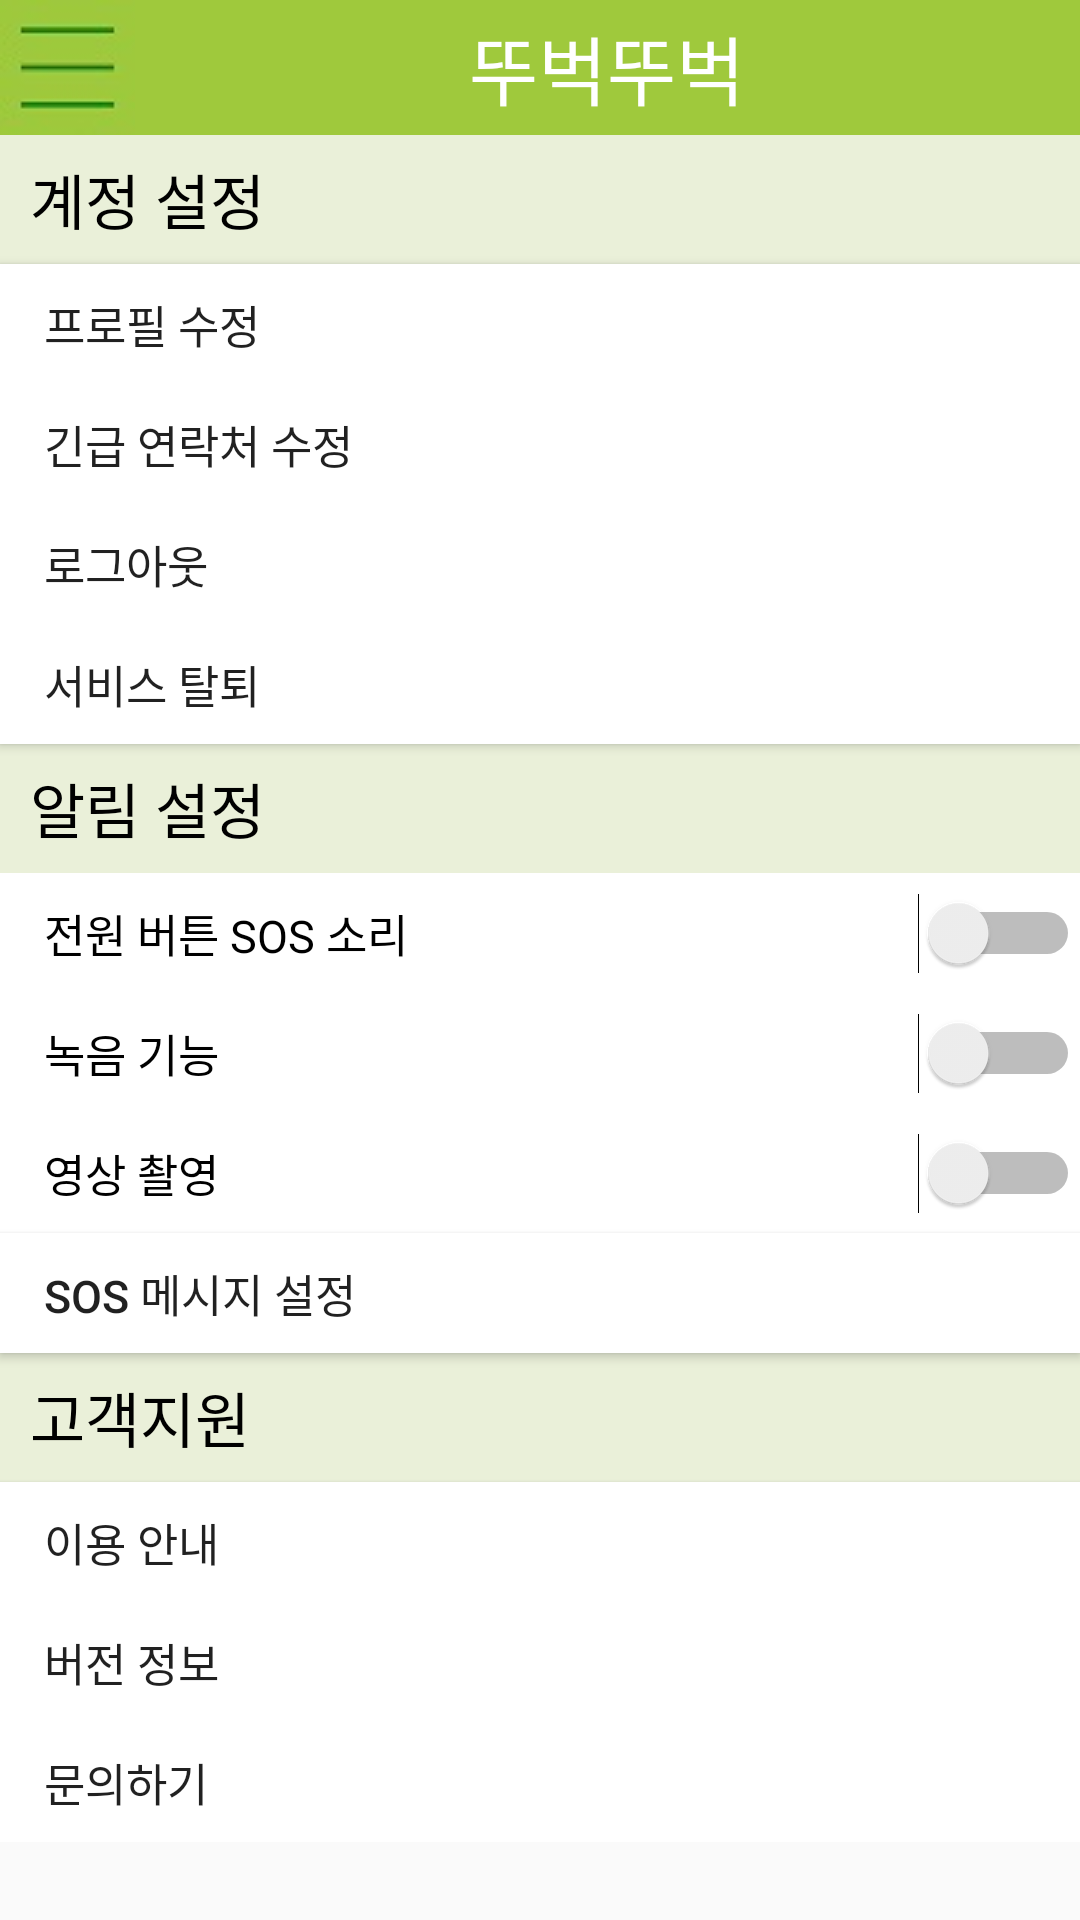

Named icons in this screenshot (1080*1920) and their centers, point (x, y):
menu: point (67, 67)
